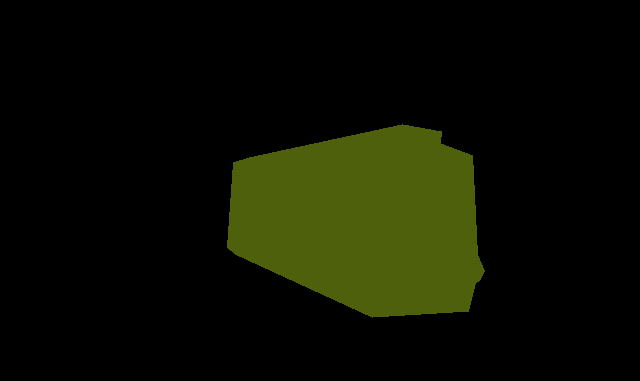Train: (227, 124, 485, 317)
